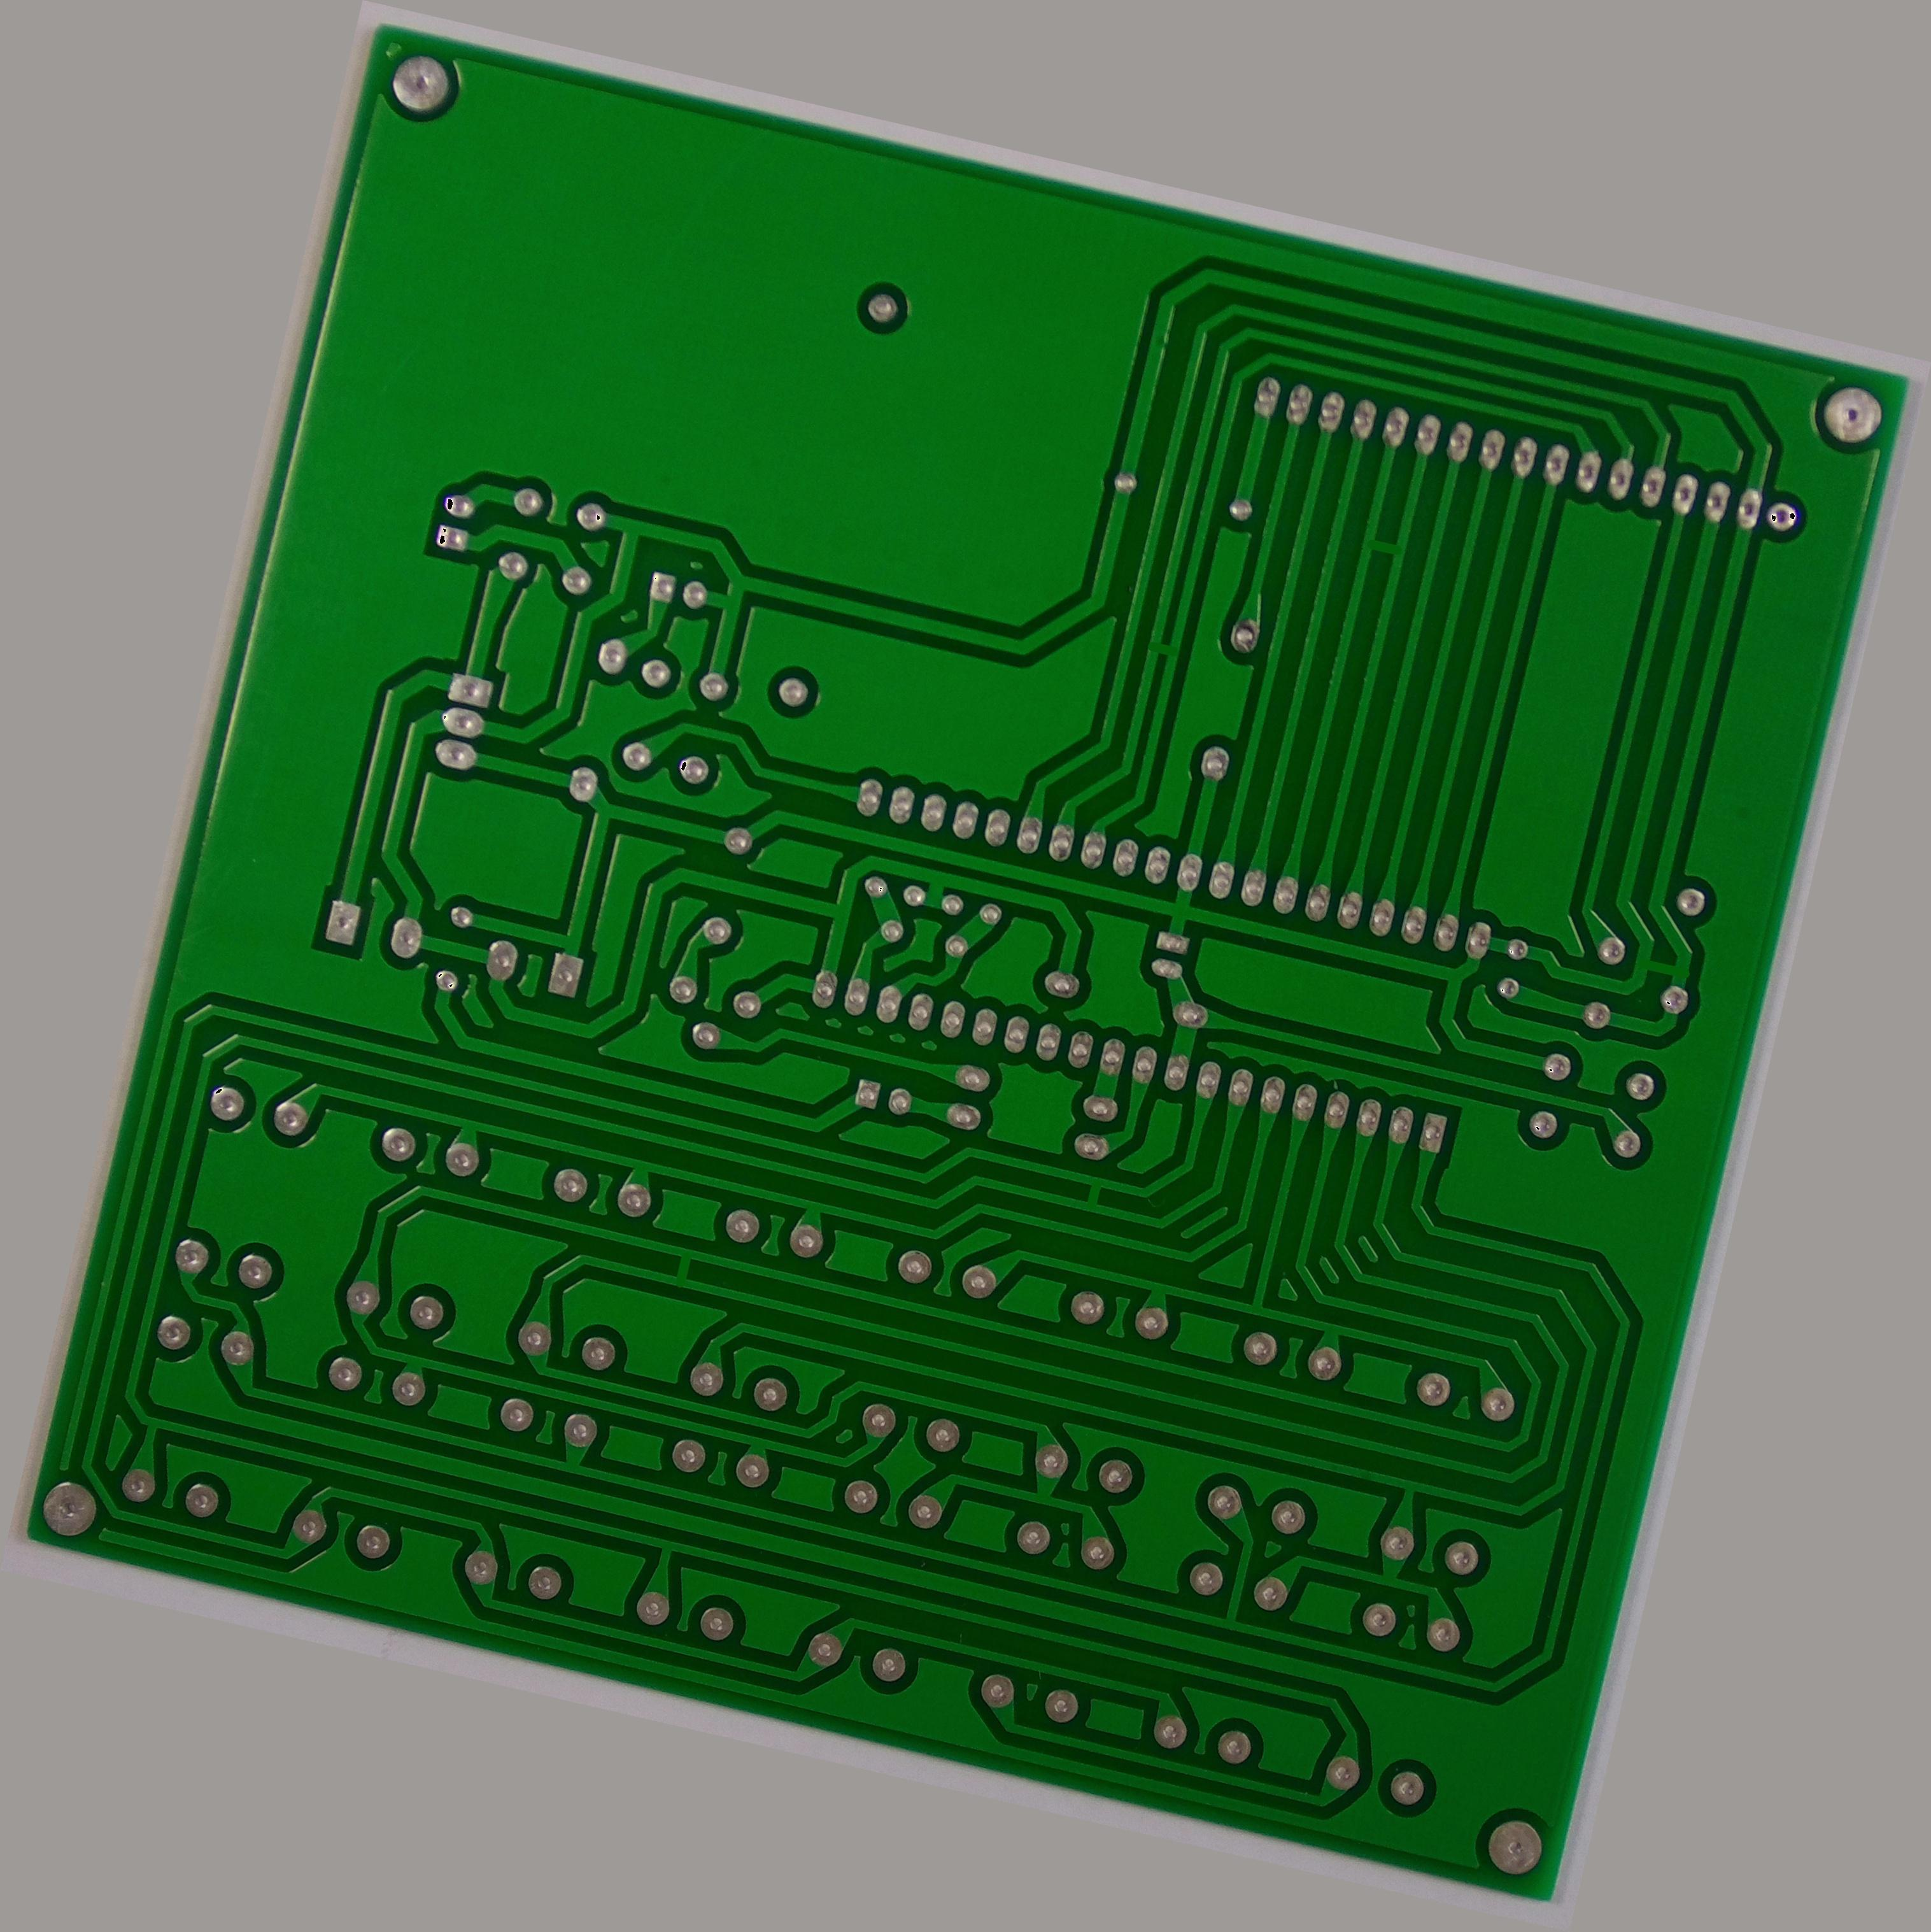short: (1622, 932, 1703, 996), (1349, 520, 1413, 566), (1070, 1162, 1118, 1219), (1137, 626, 1190, 672), (660, 1238, 700, 1295)
